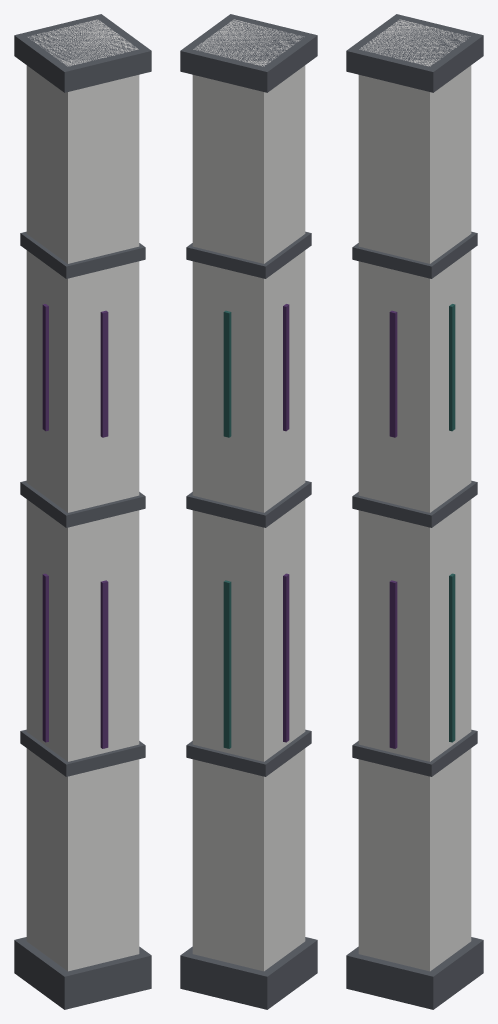
File: CornerPillar.fbx
The picture shows the model from 3 angles, left to right: view 1: azimuth 30°, elevation 25°; view 2: azimuth 150°, elevation 25°; view 3: azimuth 330°, elevation 25°; orthographic projection.
Visible parts, largest first — view 1: SM_CornerPillar; view 2: SM_CornerPillar; view 3: SM_CornerPillar.
Part boxes in pixels (x1,y1,x2,y2): SM_CornerPillar: (14,14,151,1009); SM_CornerPillar: (180,14,317,1009); SM_CornerPillar: (346,14,483,1009).
Size of the model in its own units: 2.2 by 22.6 by 2.2.
